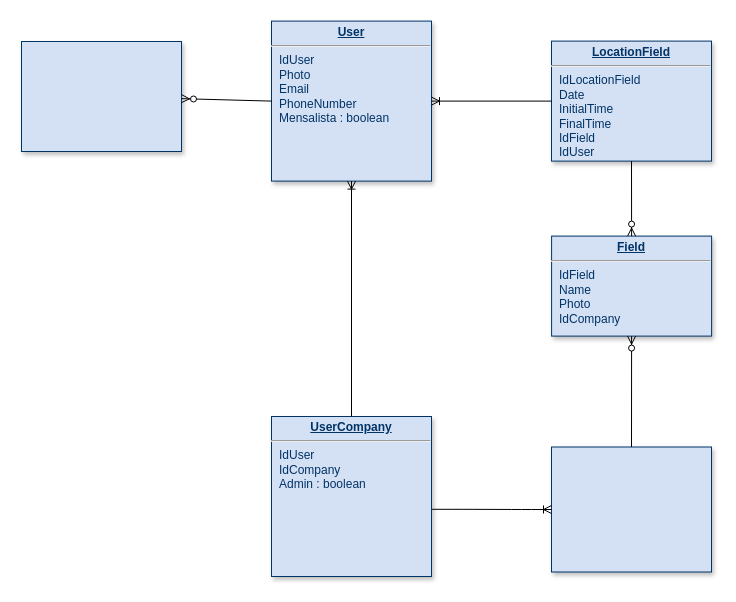
The diagram is 736 pixels wide and 602 high, and some of its shapes have lost their labels. The shapes that lost their labels are listed below. From the top down, each one's centre as x and y in pixels, then its label:
the point at 102,97: Player IdPlayer Name Level IdUser
the point at 632,510: Company IdCompany Name Cnpj
